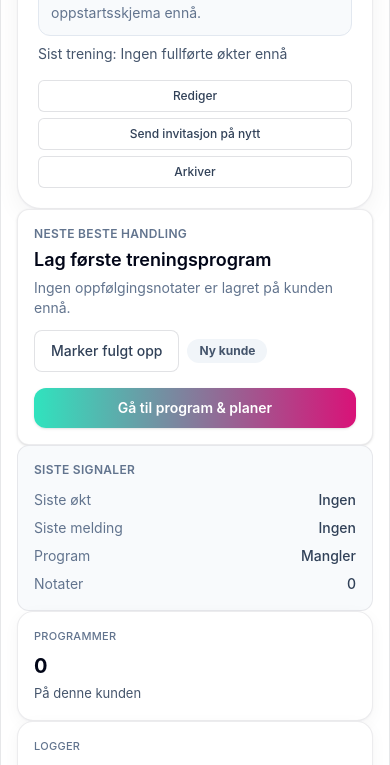
it: Stability regressions › blocks saving programs while trainer is in local demo session
The width and height of the screenshot is (390, 765).
(page scrolled)
Click the button "Gå til program & planer" at x=195, y=408, box [34, 388, 356, 428]
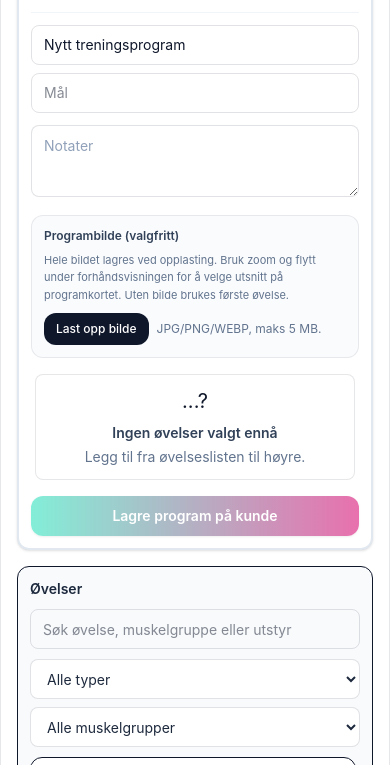
Now the button "Lagre program på kunde" is disabled, box [31, 496, 359, 536]
